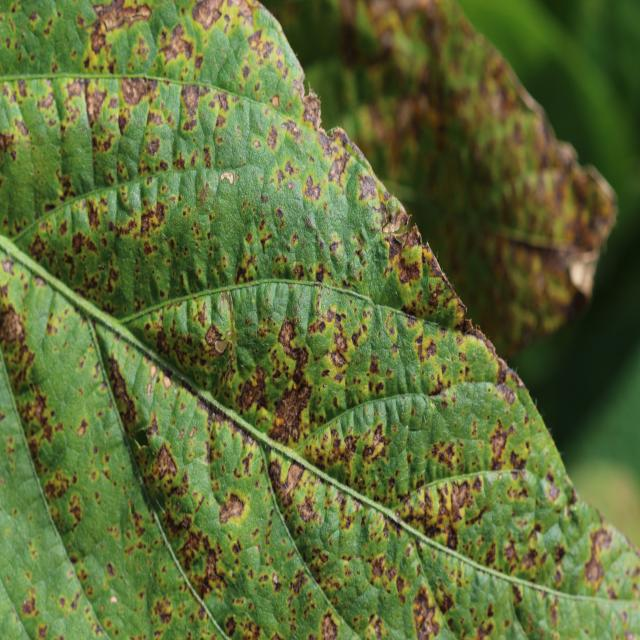Bacterial_Blight: (260, 323, 322, 456), (406, 474, 484, 548), (410, 233, 468, 321), (21, 388, 55, 454), (92, 0, 152, 35), (106, 356, 137, 421), (135, 193, 175, 243), (427, 437, 465, 480), (236, 364, 268, 414), (177, 528, 210, 575), (582, 529, 609, 586), (412, 585, 441, 638), (192, 0, 227, 31), (0, 305, 26, 346), (277, 317, 304, 356), (300, 85, 323, 130), (488, 424, 512, 466), (359, 423, 387, 459), (397, 250, 424, 286), (145, 362, 169, 402), (85, 81, 108, 122), (397, 221, 425, 253), (218, 494, 246, 525), (204, 322, 231, 354), (156, 442, 178, 480), (120, 78, 147, 107), (327, 153, 349, 186), (493, 381, 519, 408), (152, 596, 174, 625), (181, 83, 201, 113), (320, 610, 339, 640), (85, 200, 102, 233), (290, 567, 309, 595), (521, 546, 540, 572), (302, 174, 320, 201), (89, 28, 107, 55), (369, 554, 386, 581), (332, 328, 348, 355), (545, 478, 561, 503), (266, 123, 280, 151), (0, 131, 15, 156), (477, 618, 494, 640), (21, 593, 37, 616), (71, 231, 85, 256), (198, 181, 213, 204), (145, 138, 160, 157), (77, 418, 89, 437), (292, 263, 305, 280), (106, 561, 116, 578), (329, 240, 340, 254), (271, 94, 280, 108), (275, 207, 284, 220), (253, 139, 261, 149)
Soybean: (0, 0, 640, 638)
